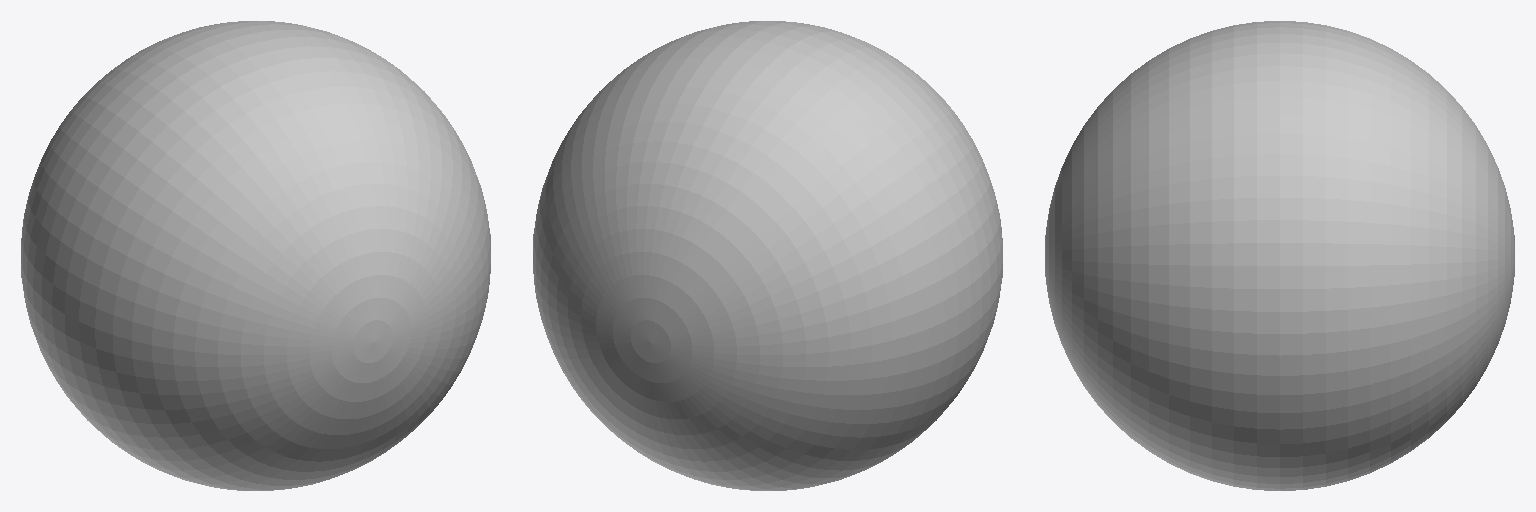
The model's file is sun.obj.
3 views of the same model, side by side, from view 1: azimuth 30°, elevation 25°; view 2: azimuth 150°, elevation 25°; view 3: azimuth 270°, elevation 25° (orthographic).
Visible parts, largest first — view 1: UnstableStarref; view 2: UnstableStarref; view 3: UnstableStarref.
Boxes of the visible parts, <box> form: UnstableStarref: <box>21,21,490,490</box>; UnstableStarref: <box>533,21,1002,490</box>; UnstableStarref: <box>1045,21,1514,490</box>.
Bounding box in the file's own units: 20.2 × 20.2 × 20.2.